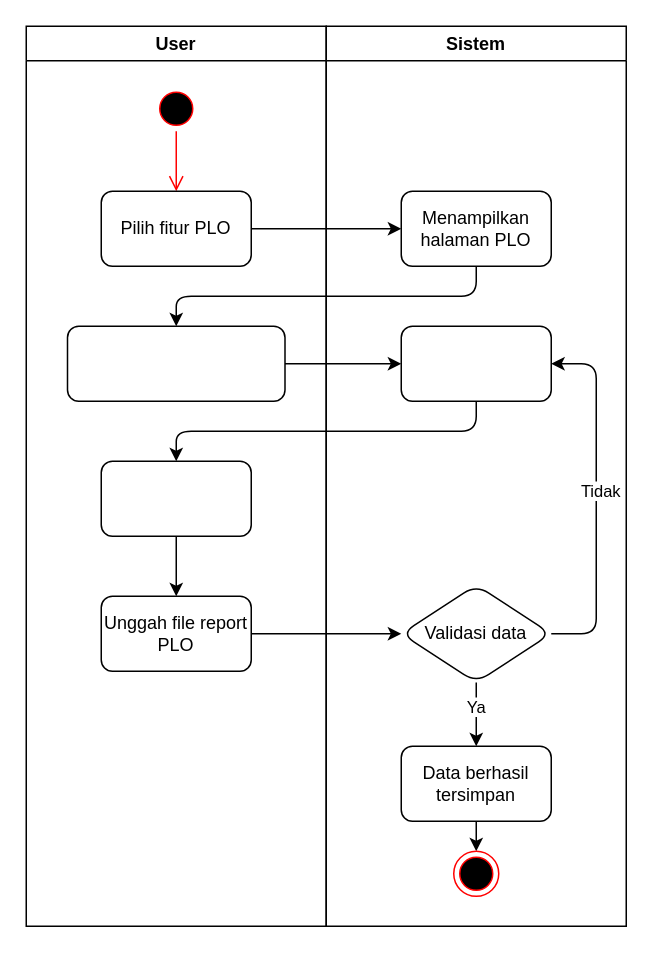
Image size: 653x953. Some labels were removed from this diagram. Each missing label, with the centre of its shape:
"Menampilkan halaman report PLO" belongs at (x=475, y=363).
"Pada kolom report PLO tekan tombol (icon eye) pada salah satu data PLO" belongs at (x=175, y=363).
"Pilih tombol tambah report" belongs at (x=175, y=498).
